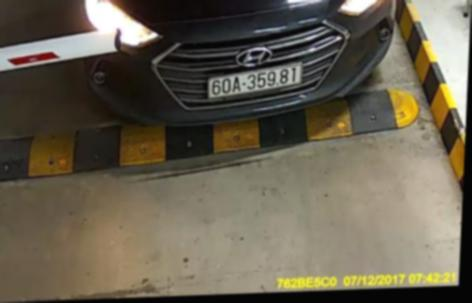License_Plate: (202, 63, 312, 96)
